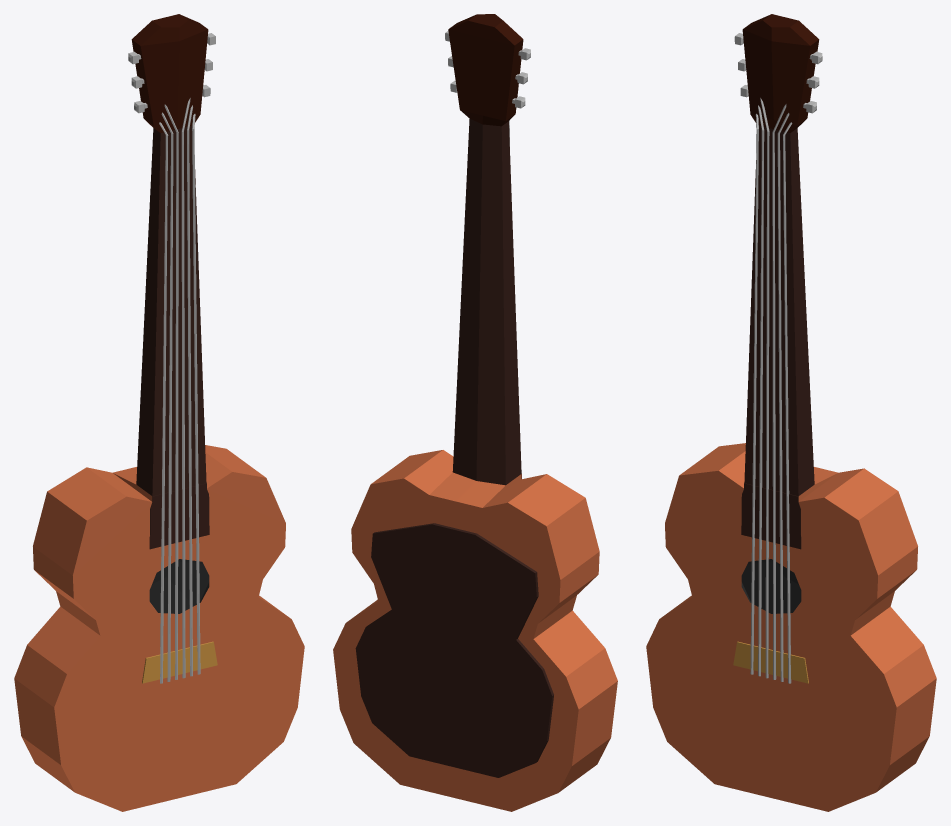
File: Acoustic Guitar.fbx
The picture shows the model from 3 angles, left to right: view 1: azimuth 30°, elevation 25°; view 2: azimuth 150°, elevation 25°; view 3: azimuth 330°, elevation 25°; orthographic projection.
Visible parts, largest first — view 1: Acoustic Guitar; view 2: Acoustic Guitar; view 3: Acoustic Guitar.
Part boxes in pixels (x1,y1,x2,y2): Acoustic Guitar: (14, 14, 304, 811); Acoustic Guitar: (333, 14, 617, 811); Acoustic Guitar: (646, 14, 936, 811).
Size of the model in its own units: 416 by 1222 by 124.
